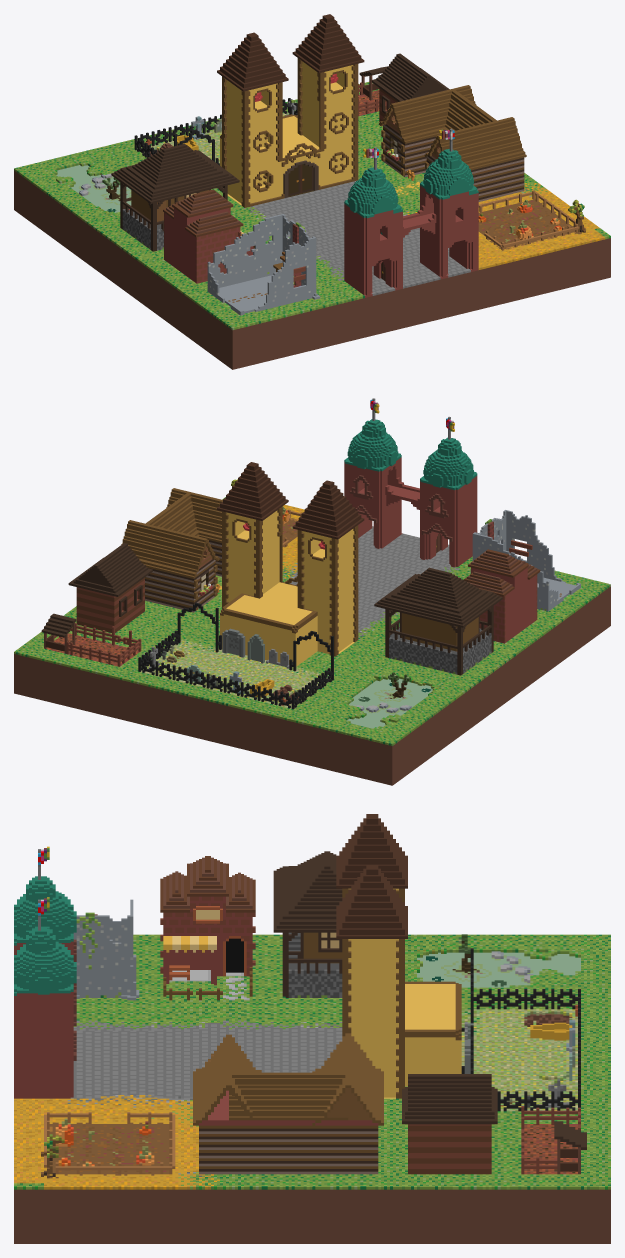
The model's file is dediniatko-1.obj.
The picture shows the model from 3 angles, top to bottom: view 1: azimuth 30°, elevation 25°; view 2: azimuth 150°, elevation 25°; view 3: azimuth 270°, elevation 25°; orthographic projection. The views are drawn at different scales.
Bounding box in the file's own units: 20 × 10.2 × 20.
Materials: 1 (1 with a texture image).
